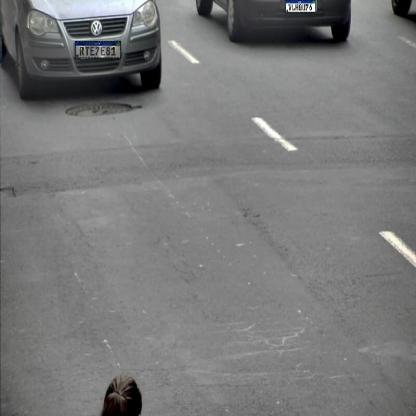PlacaM: (75, 41, 121, 58), (285, 0, 315, 12)
